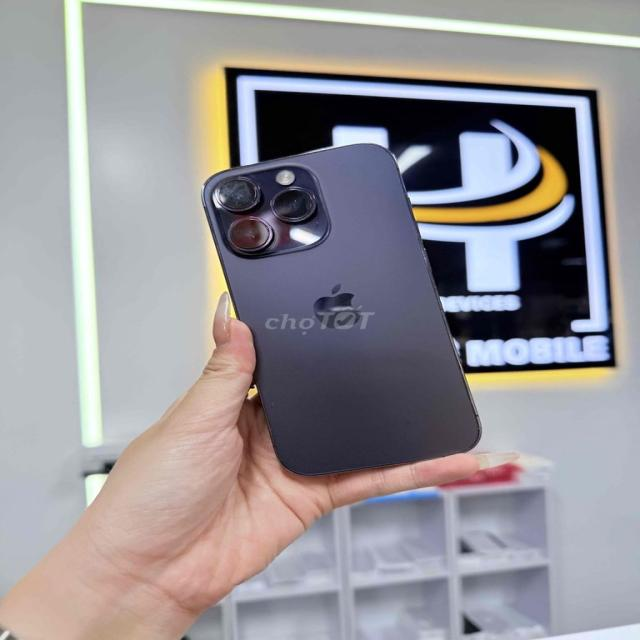scratch: (210, 171, 266, 210)
